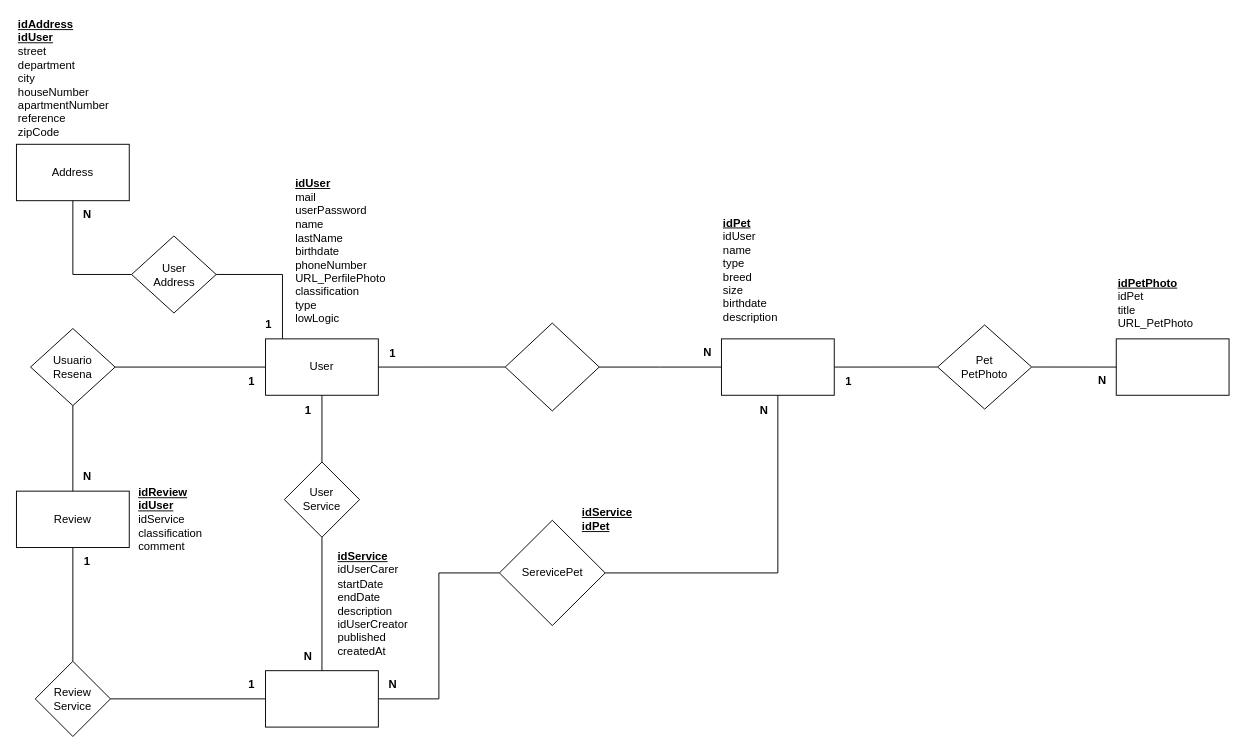
Image size: 1246x754. Some labels were removed from this diagram. The centre of each missing label's shape, as x and y in pixels:
"Pet" goes at [777,366].
"PetPhoto" goes at [1172,366].
"Service" goes at [321,698].
"User Pet" goes at [551,366].
